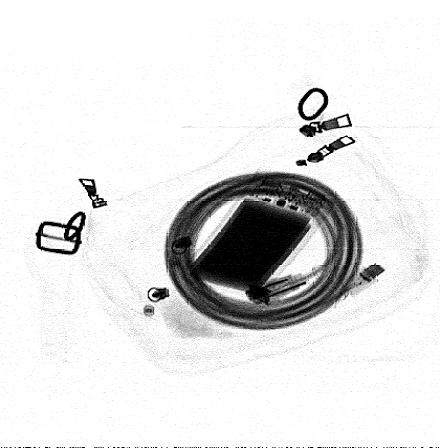Powerbank: (176, 168, 333, 300)
